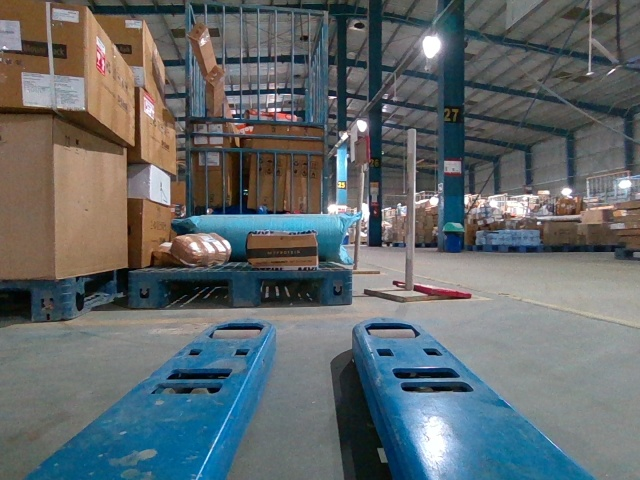block: (127, 274, 165, 309), (231, 270, 261, 307)
front: (129, 268, 353, 307)
